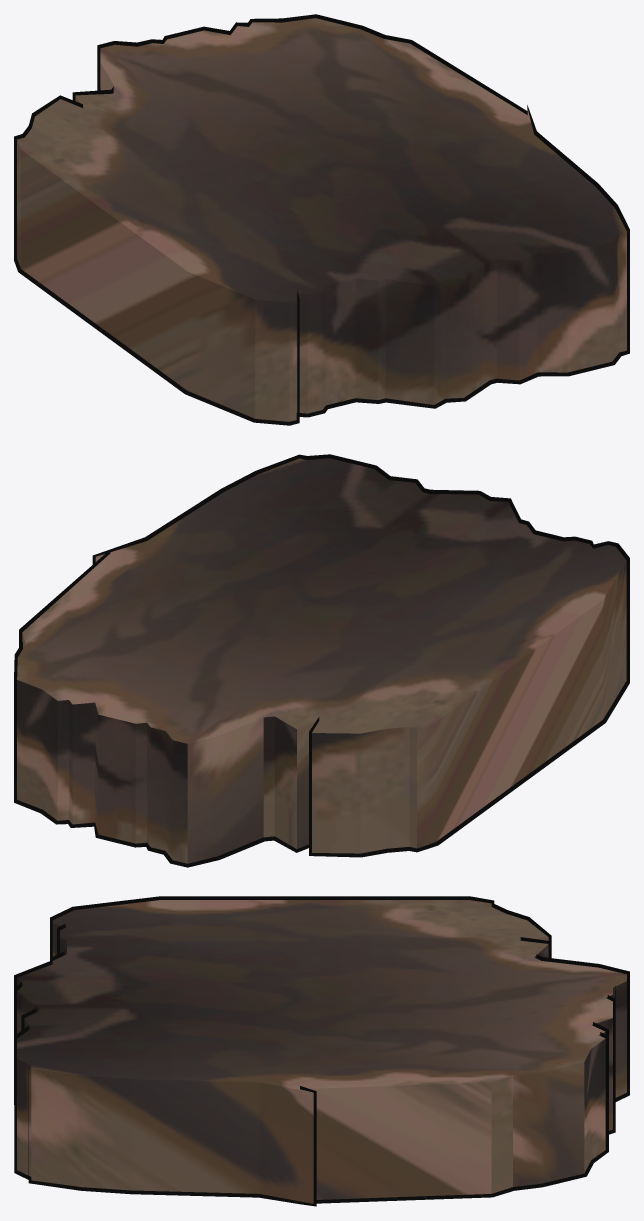
File: Building_PitBurrow_Things_Building_PitBurrow_PitBurrowA.glb
3 renders of one model, top to bottom at view 1: azimuth 30°, elevation 25°; view 2: azimuth 150°, elevation 25°; view 3: azimuth 270°, elevation 25°, orthographic. The views are drawn at different scales.
Visible parts, largest first — view 1: Body, Outline; view 2: Body, Outline; view 3: Body, Outline.
Boxes of the visible parts, left/top/right/bottom form: Body: left=17, top=18, right=626, bottom=421; Outline: left=14, top=14, right=629, bottom=425; Body: left=17, top=458, right=626, bottom=863; Outline: left=14, top=454, right=629, bottom=867; Body: left=17, top=900, right=626, bottom=1203; Outline: left=14, top=896, right=629, bottom=1206.
Size of the model in its own units: 0.8993 by 0.2559 by 1.2.
2 materials, 1 textured.
